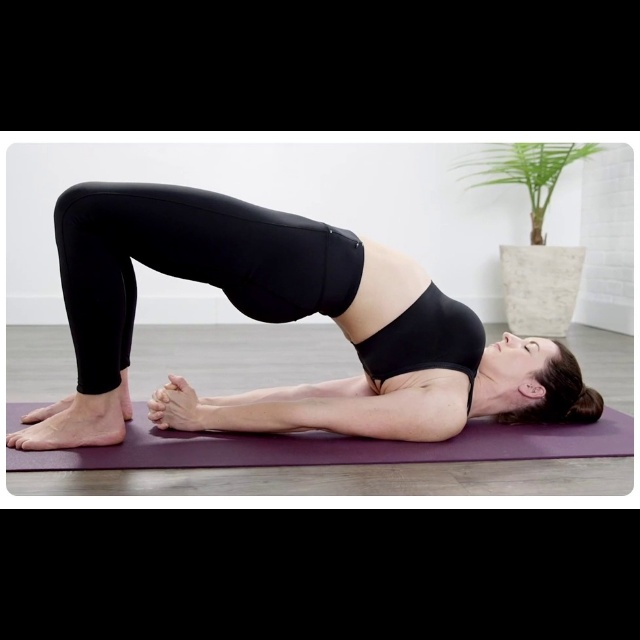Bridge_Pose: (8, 177, 608, 459)
